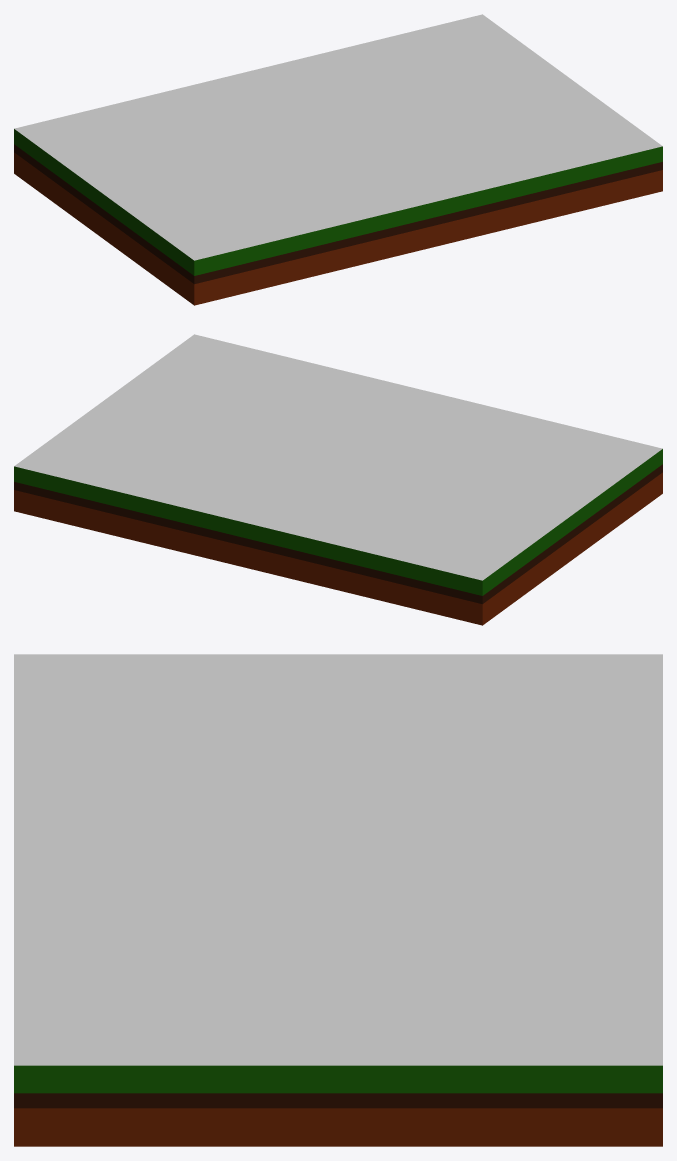
File: football_field.glb
3 renders of one model, top to bottom at view 1: azimuth 30°, elevation 25°; view 2: azimuth 150°, elevation 25°; view 3: azimuth 270°, elevation 25°, orthographic. The views are drawn at different scales.
Visible parts, largest first — view 1: football_field; view 2: football_field; view 3: football_field.
Part boxes in pixels (<box>): football_field: <box>14,14,662,305</box>; football_field: <box>14,334,662,625</box>; football_field: <box>14,654,662,1146</box>.
Bounding box in the file's own units: 114 × 10.48 × 76.26.
